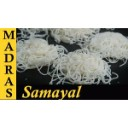idiyappam: (59, 47, 109, 84), (17, 36, 61, 69), (89, 30, 127, 63), (51, 26, 99, 47)
